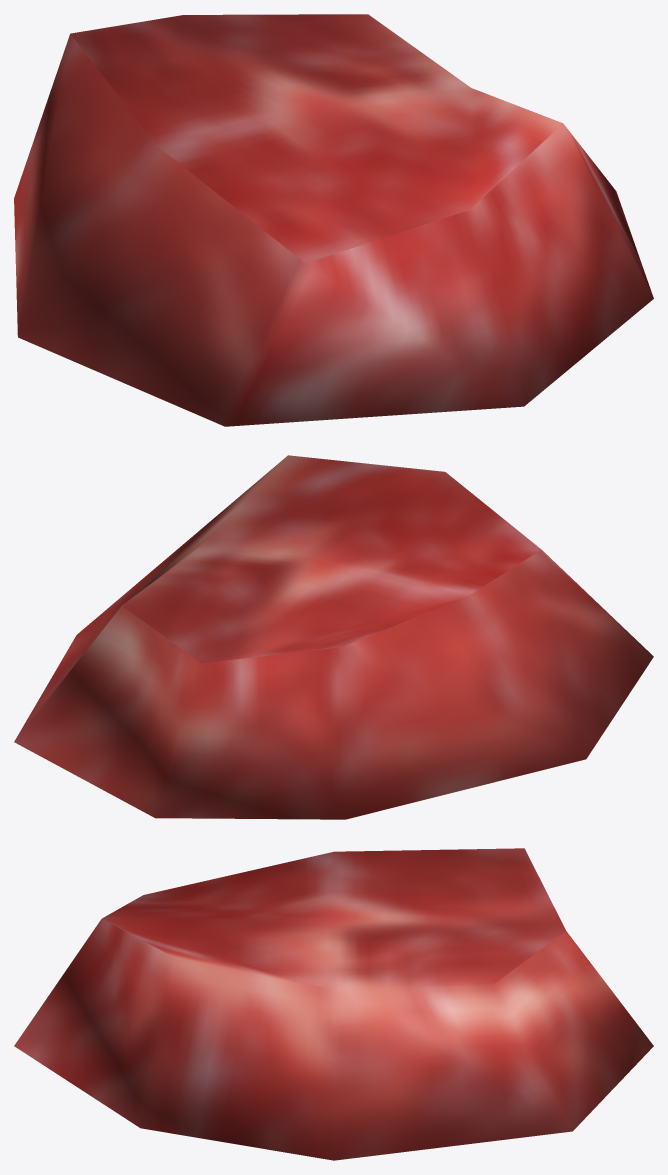
File: meatlump3.glb
3 views of the same model, one above another, from view 1: azimuth 30°, elevation 25°; view 2: azimuth 150°, elevation 25°; view 3: azimuth 270°, elevation 25° (orthographic). The views are drawn at different scales.
Parts seen in each view (by area): view 1: Cube.002; view 2: Cube.002; view 3: Cube.002.
Boxes of the visible parts, left/top/right/bottom form: Cube.002: left=14, top=14, right=653, bottom=426; Cube.002: left=14, top=455, right=653, bottom=819; Cube.002: left=14, top=848, right=653, bottom=1160.
Size of the model in its own units: 26.36 by 7.42 by 30.12.
1 material, 1 textured.
